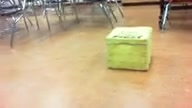cube: (105, 27, 152, 72)
